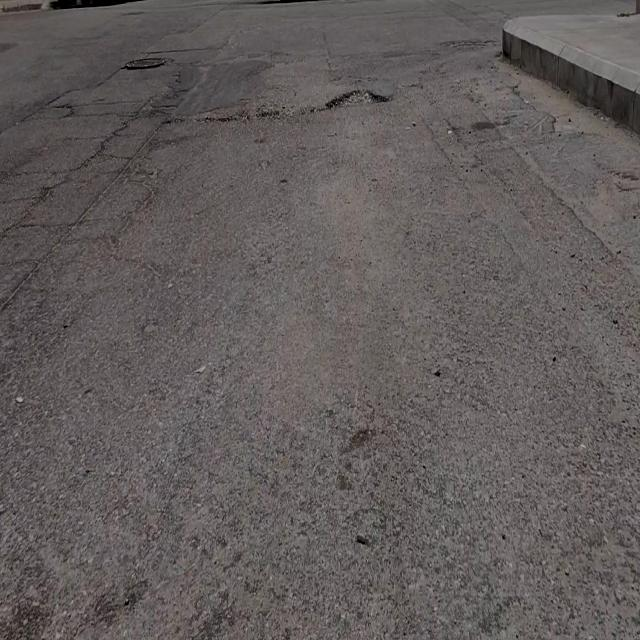Potholes: (324, 85, 392, 110)
